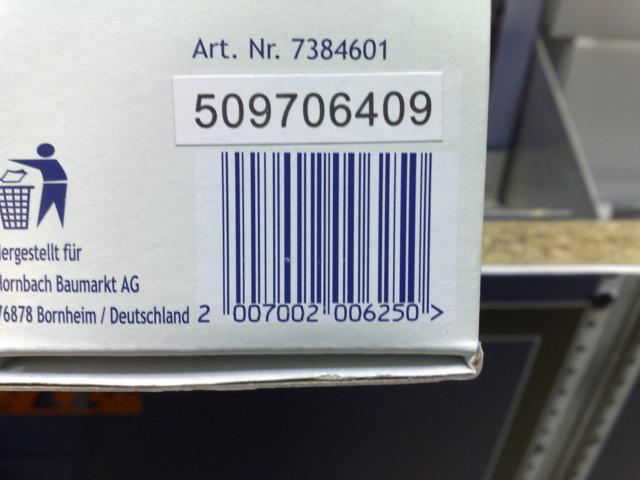Barkod: (216, 150, 435, 302)
